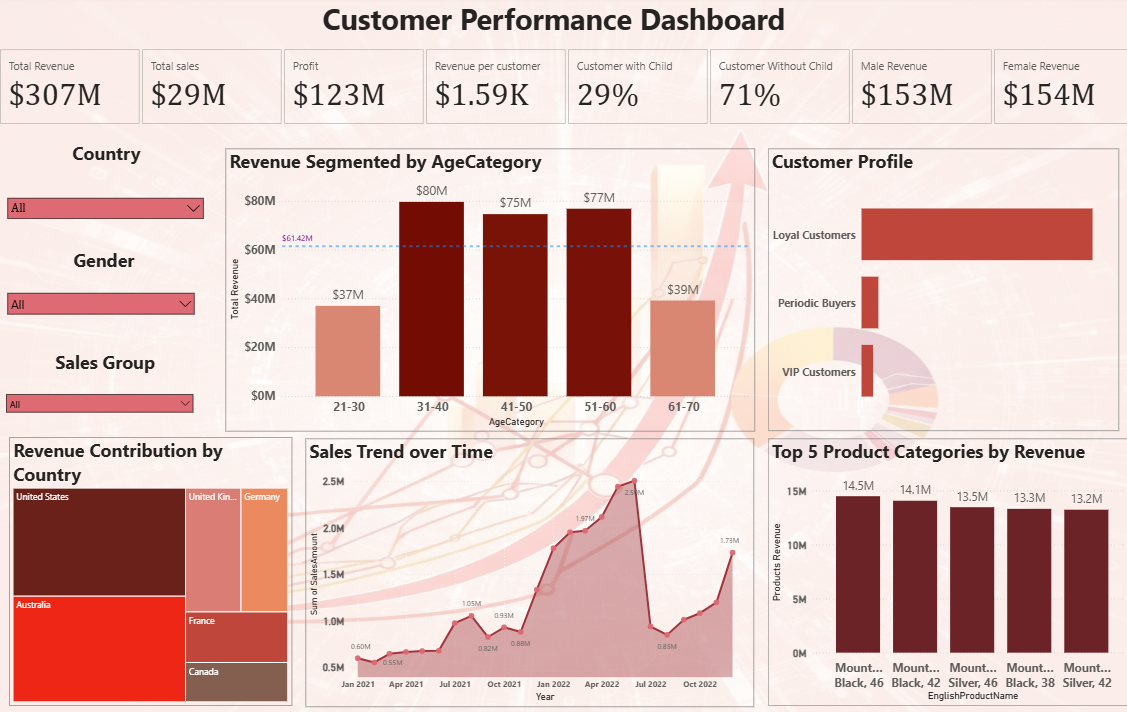

This screenshot's page, from the dashboard's own definition file:
{"tool":"powerbi","page":{"name":"Customer Revenue Insights","canvas":[1700,1080],"ordinal":0},"visuals":[{"type":"clusteredColumnChart","title":"Revenue Segmented by AgeCategory","fields":{"Category":["DimCustomer.AgeCategory"],"Y":["All customer.Total Revenue"]},"box":[339,227.7,790.5,422.1],"z":0},{"type":"textbox","box":[479.5,0,847.1,76.5],"z":1000},{"type":"cardVisual","fields":{"Data":["All customer.Total Revenue","DimGeography.Total sales","DimGeography.Profit","All customer.Revenue per customer","All customer.RwithoutC%","All customer.CWC %","All customer.Male Revenue","All customer.Female Revenue"]},"box":[0,76.5,1699.9,117.6],"z":2000},{"type":"clusteredBarChart","title":"Customer Profile","fields":{"Category":["DimCustomer.Customer type"],"Y":["All customer.Total Revenue"]},"box":[1149.4,227.6,524.3,421.7],"z":3000},{"type":"treemap","title":"Revenue Contribution by Country","fields":{"Group":["DimGeography.Country"],"Values":["All customer.Total Revenue"]},"box":[16.3,658.3,422.1,401],"z":4000},{"type":"slicer","fields":{"Values":["DimGeography.Country"]},"box":[3.3,291.1,312.9,73.9],"z":5000},{"type":"textbox","box":[0,210.9,316.2,80.2],"z":6000},{"type":"textbox","box":[0,371.3,316.2,61.2],"z":7000},{"type":"slicer","fields":{"Values":["DimCustomer.Gender"]},"box":[3.3,432.5,299.9,69.6],"z":8000},{"type":"slicer","fields":{"Values":["DimSalesTerritory.SalesTerritoryGroup"]},"box":[1.6,584.4,299.9,65.4],"z":9000},{"type":"textbox","box":[1.6,523.2,316.2,61.2],"z":10000},{"type":"lineChart","title":"Sales Trend over Time","fields":{"Y":["Sum(FactInternetSales.SalesAmount)"],"Category":["FactInternetSales.OrderDate.Variation.Date Hierarchy.Year","FactInternetSales.OrderDate.Variation.Date Hierarchy.Month"]},"box":[459.6,660.4,669.9,400.5],"z":11000},{"type":"clusteredColumnChart","title":"Top 5 Product Categories by Revenue","fields":{"Category":["DimProduct.EnglishProductName"],"Y":["DimGeography.top 10 product"]},"box":[1149.1,660.4,550.9,398.9],"z":12000}]}

Visuals, with their boxes in screenshot pixels (x1, y1, x2, y2), scaled from the page's 1700x1080 canvas onto the 1127x712 screenshot:
"Revenue Segmented by AgeCategory" clusteredColumnChart: l=225, t=150, r=749, b=428
textbox: l=318, t=0, r=879, b=50
cardVisual - All customer.Total Revenue x DimGeography.Total sales: l=0, t=50, r=1126, b=128
"Customer Profile" clusteredBarChart: l=762, t=150, r=1110, b=428
"Revenue Contribution by Country" treemap: l=11, t=434, r=291, b=698
slicer - DimGeography.Country: l=2, t=192, r=210, b=241
textbox: l=0, t=139, r=210, b=192
textbox: l=0, t=245, r=210, b=285
slicer - DimCustomer.Gender: l=2, t=285, r=201, b=331
slicer - DimSalesTerritory.SalesTerritoryGroup: l=1, t=385, r=200, b=428
textbox: l=1, t=345, r=211, b=385
"Sales Trend over Time" lineChart: l=305, t=435, r=749, b=699
"Top 5 Product Categories by Revenue" clusteredColumnChart: l=762, t=435, r=1126, b=698
